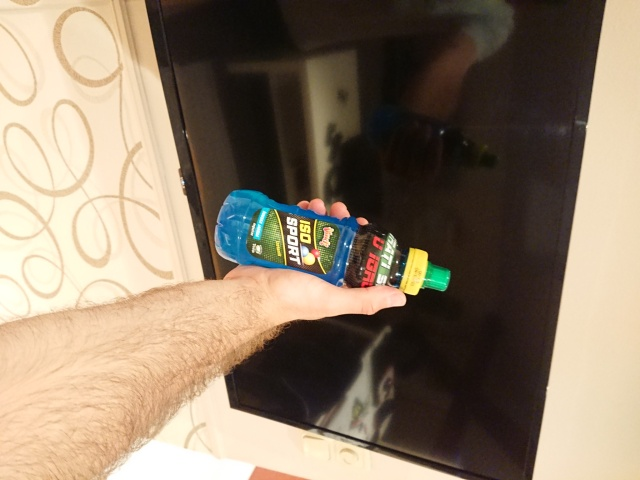Vindi Iso Sport Forest Strawberries 500mL: (212, 187, 454, 297)
